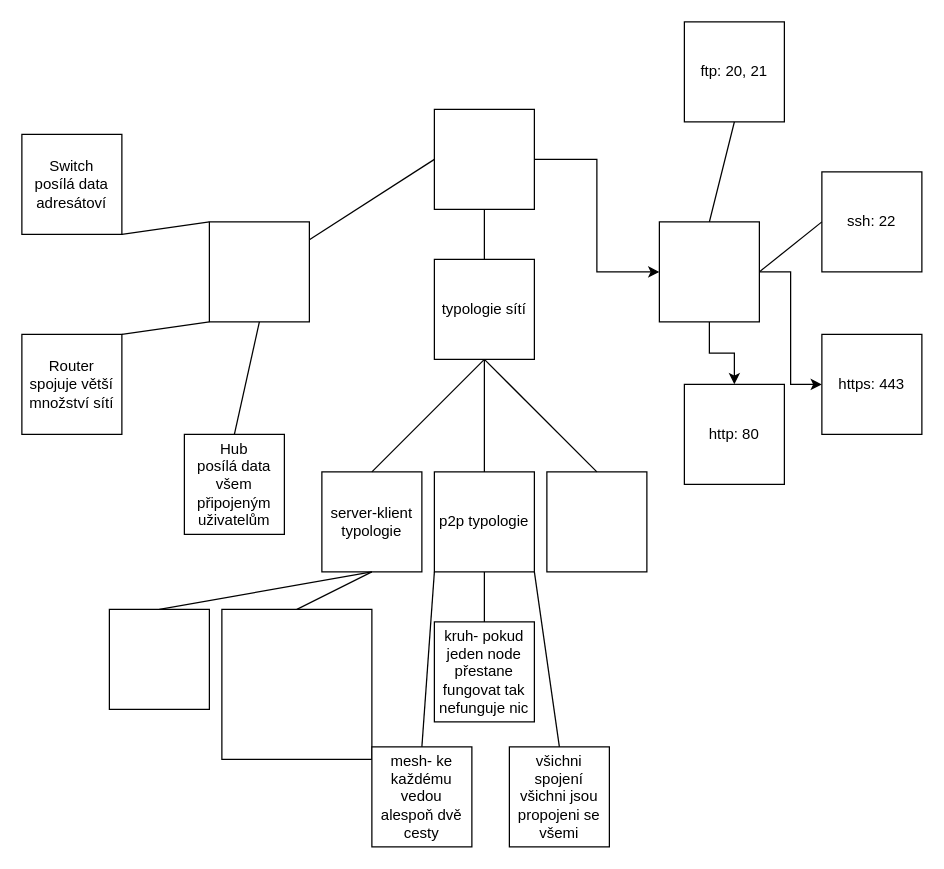
This 944x869 diagram has some shape labels left out. The centre of each missing label's shape, as x and y in pixels:
"hvězda" goes at pixel 158 658.
"Počítačové sítě" goes at pixel 483 158.
"sběrnicová typologie kombinuje obojí" goes at pixel 596 521.
"strom nevýhoda- všechen traffic prochází nejvýšše položenými body" goes at pixel 296 683.
"síťová infrastruktura" goes at pixel 258 271.
"síťová komunikace různé protokoly a porty" goes at pixel 708 271.
